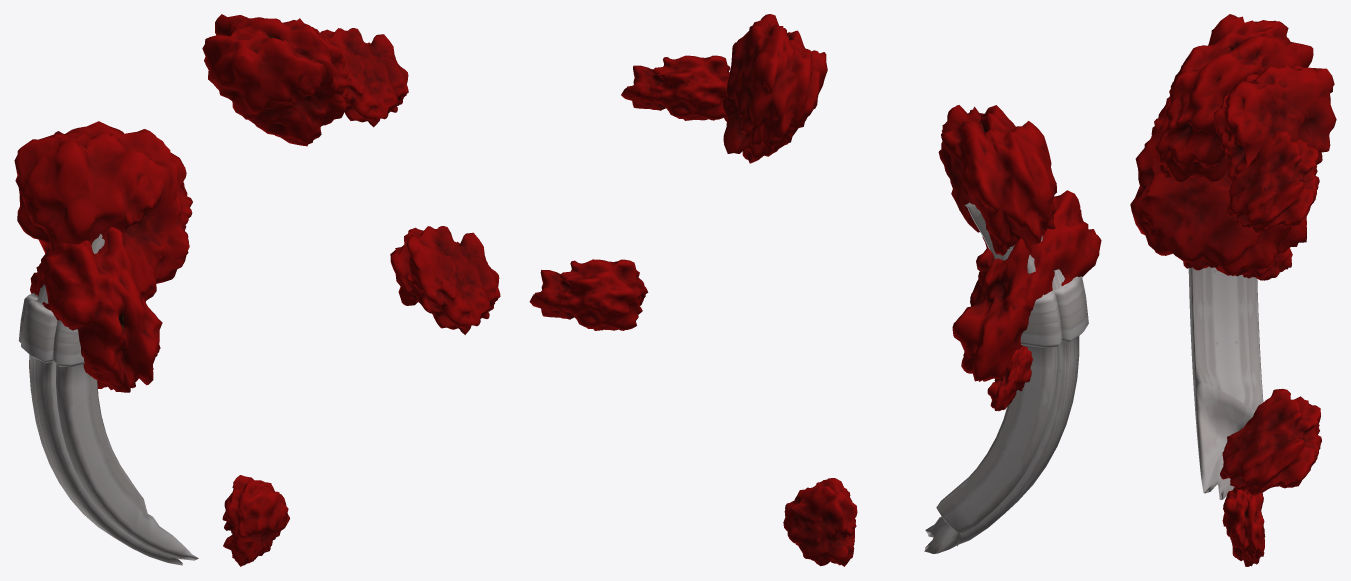
File: GSRuinedRing (3).fbx
3 views of the same model, side by side, from view 1: azimuth 30°, elevation 25°; view 2: azimuth 150°, elevation 25°; view 3: azimuth 270°, elevation 25° (orthographic). The views are drawn at different scales.
Parts seen in each view (by area): view 1: GoldNuggetNestedInRings (×6), GSRuinedRing (3); view 2: GoldNuggetNestedInRings (×7), GSRuinedRing (3); view 3: GoldNuggetNestedInRings (×7), GSRuinedRing (3).
Boxes of the visible parts, <box> form: GoldNuggetNestedInRings (×6): <box>14,14,500,566</box>; GSRuinedRing (3): <box>18,234,198,565</box>; GoldNuggetNestedInRings (×7): <box>529,14,1101,566</box>; GSRuinedRing (3): <box>924,202,1088,553</box>; GoldNuggetNestedInRings (×7): <box>1130,14,1336,566</box>; GSRuinedRing (3): <box>1188,266,1263,500</box>.
Bounding box in the file's own units: 35.5 × 35.93 × 13.1.
Materials: 2 (1 with a texture image).
